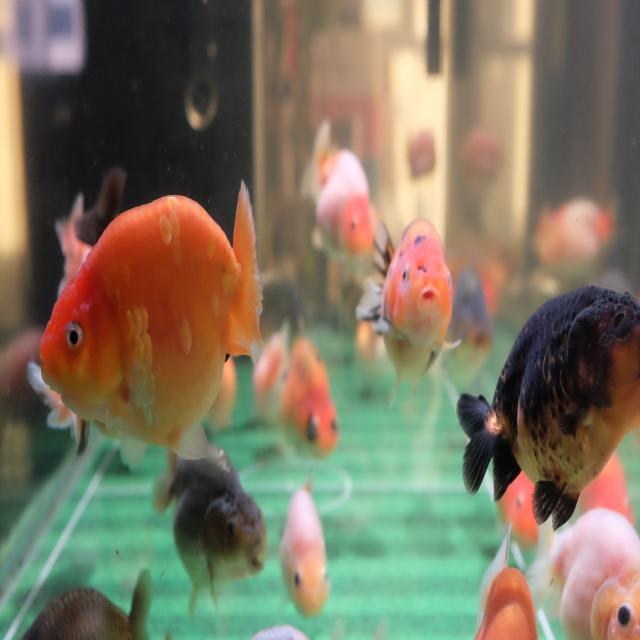Goldfish: (38, 180, 268, 466), (455, 280, 640, 530), (354, 213, 463, 412), (152, 437, 269, 615), (532, 504, 639, 640), (301, 117, 373, 268), (23, 566, 150, 640), (276, 334, 340, 465), (278, 470, 331, 620), (474, 522, 538, 640)
